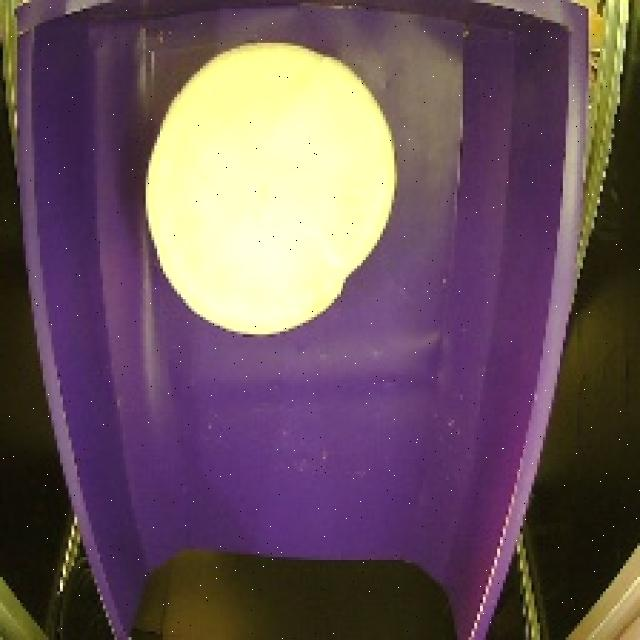white_radish: (139, 37, 407, 350)
